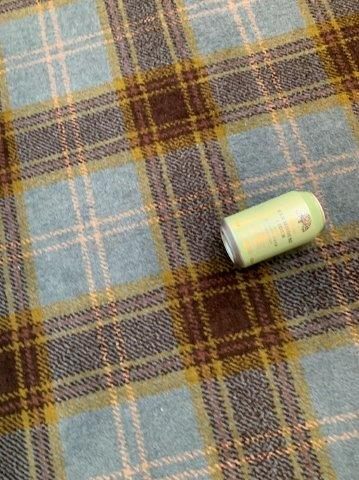kaleng: (220, 192, 326, 267)
